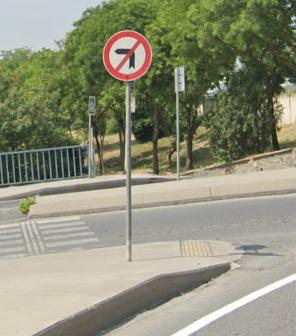leftturnsareforbidden: (106, 33, 151, 79)
